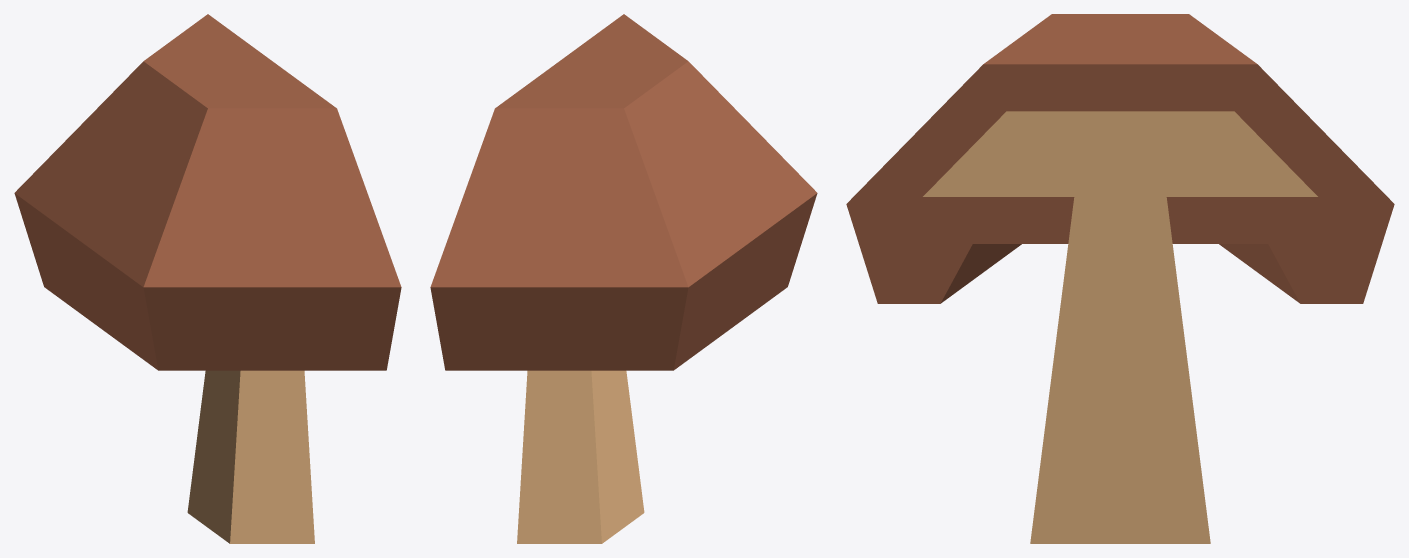
The model's file is mushroomHalf.fbx.
3 views of the same model, side by side, from view 1: azimuth 30°, elevation 25°; view 2: azimuth 150°, elevation 25°; view 3: azimuth 270°, elevation 25° (orthographic). The views are drawn at different scales.
Visible parts, largest first — view 1: mushroomHalf; view 2: mushroomHalf; view 3: mushroomHalf.
Part boxes in pixels (left/top/right/bottom): mushroomHalf: left=14, top=14, right=401, bottom=543; mushroomHalf: left=430, top=14, right=817, bottom=543; mushroomHalf: left=846, top=14, right=1394, bottom=543.
Bounding box in the file's own units: 0.6244 × 1.39 × 1.44.
